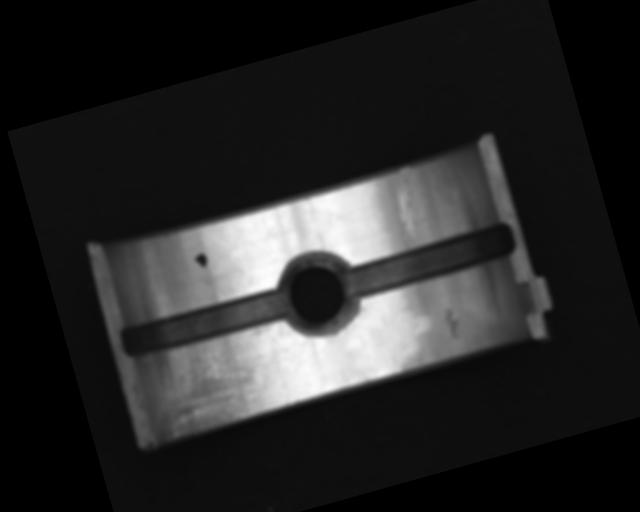blot: (192, 250, 210, 270)
bruise: (437, 304, 465, 343)
gap: (339, 218, 518, 303), (117, 283, 294, 363)
hole: (269, 244, 365, 344)
nick: (386, 166, 428, 241)
scratch: (137, 329, 274, 445)
